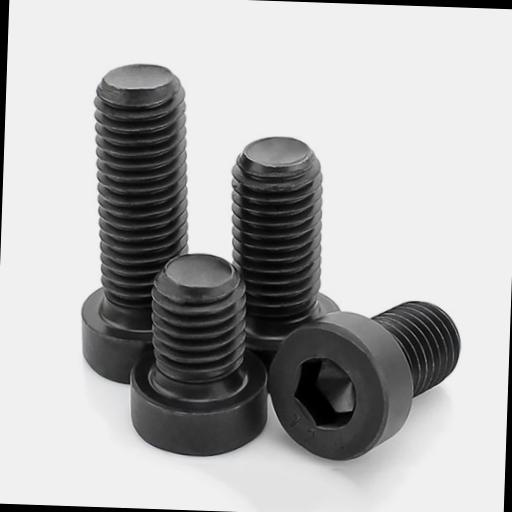Hex-Allen: (268, 311, 411, 462)
